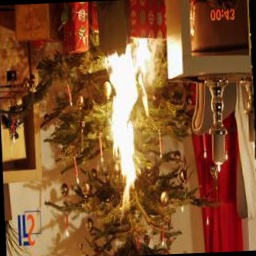fire: (91, 37, 165, 213)
